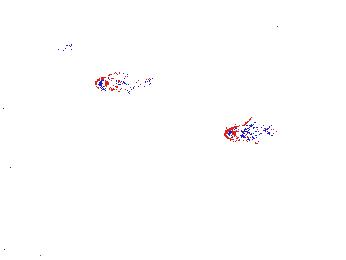X-ray fish: (27, 132, 66, 168)
red belly glassfish: (93, 71, 153, 95), (223, 120, 274, 142)
